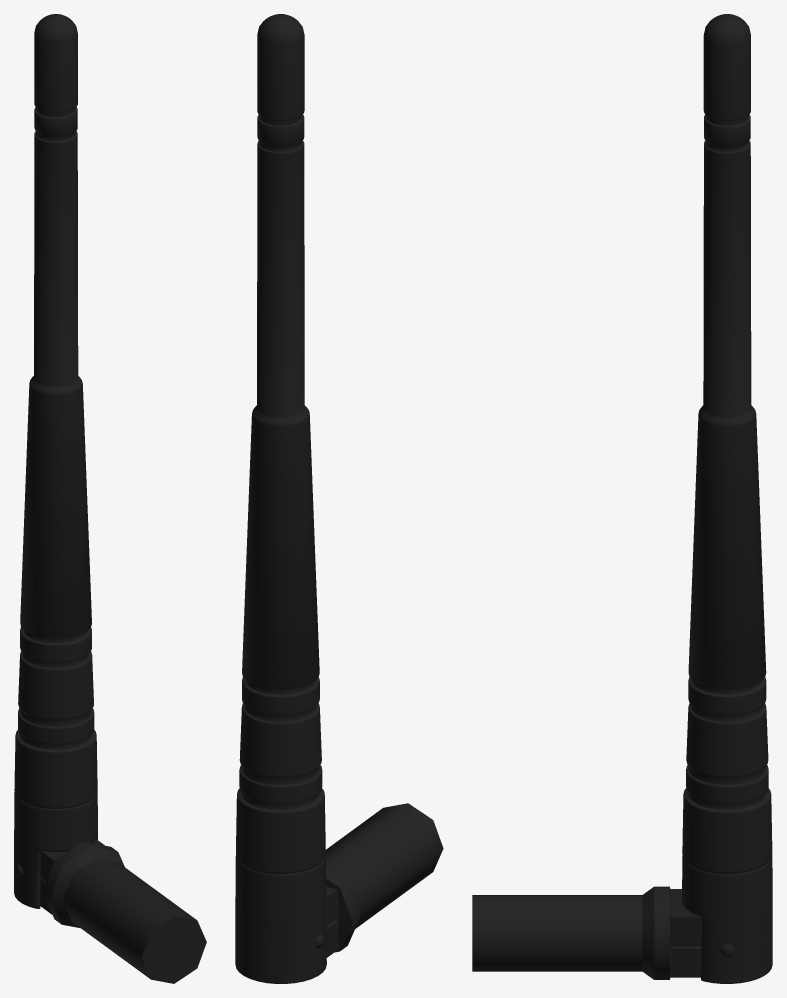
Rendered from ytx1.FBX.
3 views of the same model, side by side, from view 1: azimuth 30°, elevation 25°; view 2: azimuth 150°, elevation 25°; view 3: azimuth 270°, elevation 25° (orthographic). The views are drawn at different scales.
Parts seen in each view (by area): view 1: 对象008; view 2: 对象008; view 3: 对象008.
Part boxes in pixels (<box>): 对象008: <box>14,14,206,983</box>; 对象008: <box>235,14,443,983</box>; 对象008: <box>472,14,772,983</box>.
Bounding box in the file's own units: 6.1 × 18.37 × 64.88.
